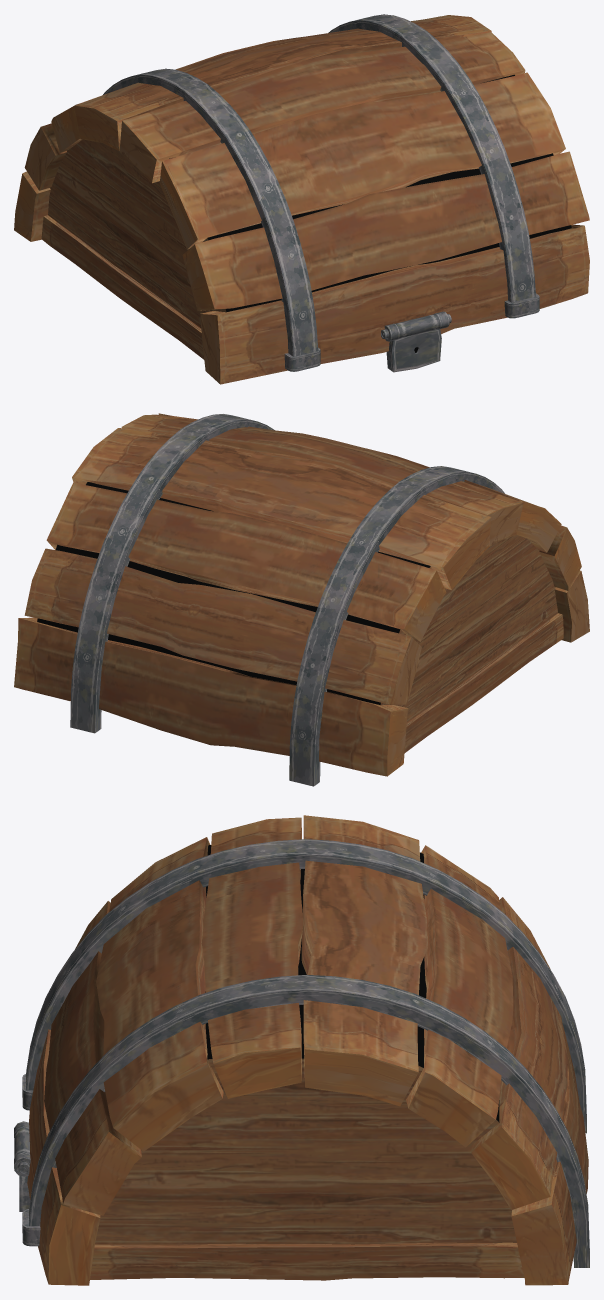
File: SM_Farm_Chest_Open_Lid.fbx
The picture shows the model from 3 angles, top to bottom: view 1: azimuth 30°, elevation 25°; view 2: azimuth 150°, elevation 25°; view 3: azimuth 270°, elevation 25°; orthographic projection. The views are drawn at different scales.
Visible parts, largest first — view 1: SM_Farm_Chest_Open_Lid_LOD0; view 2: SM_Farm_Chest_Open_Lid_LOD0; view 3: SM_Farm_Chest_Open_Lid_LOD0.
Part boxes in pixels (x1,y1,x2,y2): SM_Farm_Chest_Open_Lid_LOD0: (14, 14, 589, 384); SM_Farm_Chest_Open_Lid_LOD0: (14, 413, 589, 786); SM_Farm_Chest_Open_Lid_LOD0: (14, 815, 589, 1285).
Size of what is drawn, in the model's own units: 80.55 by 46.18 by 83.71.
